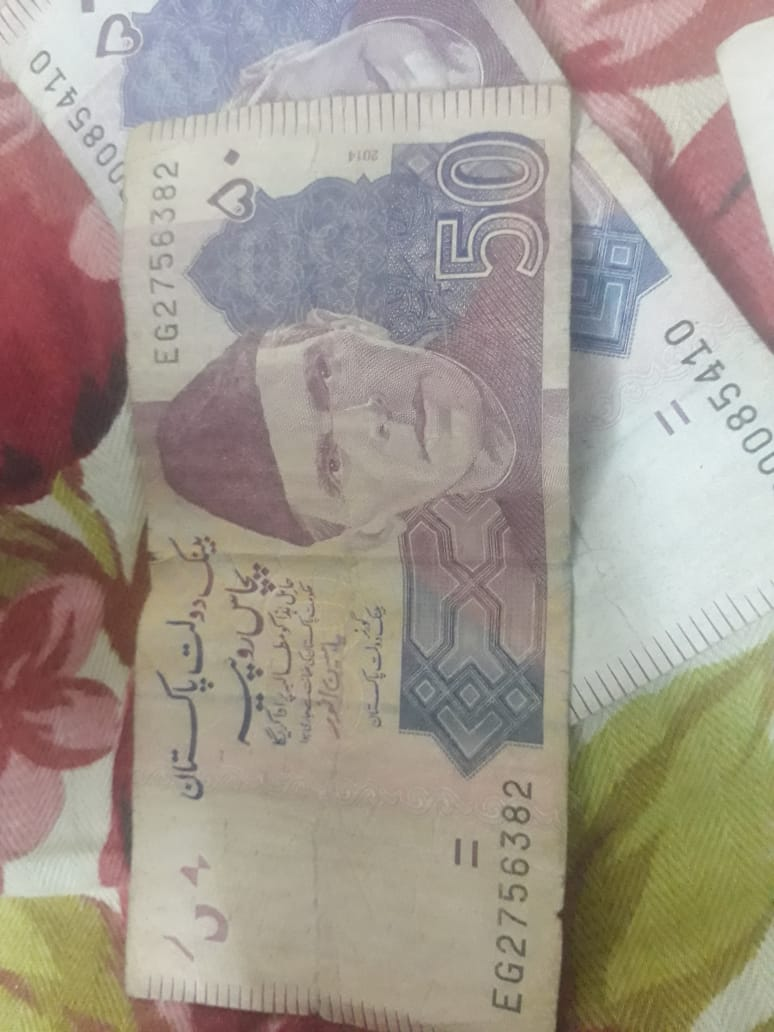50 rupee: (119, 108, 578, 1032)
